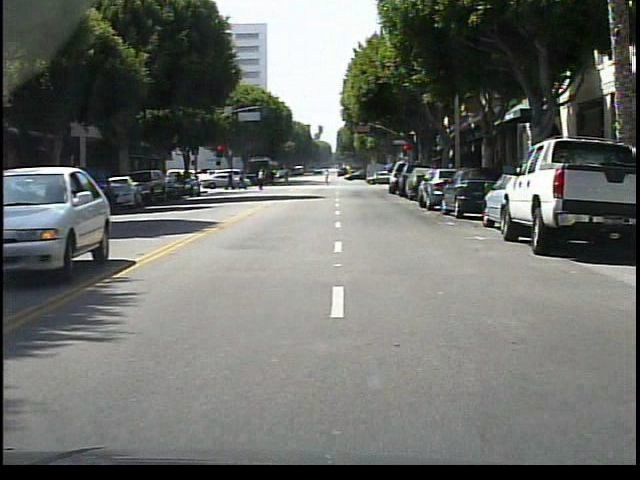person: (253, 166, 273, 195)
